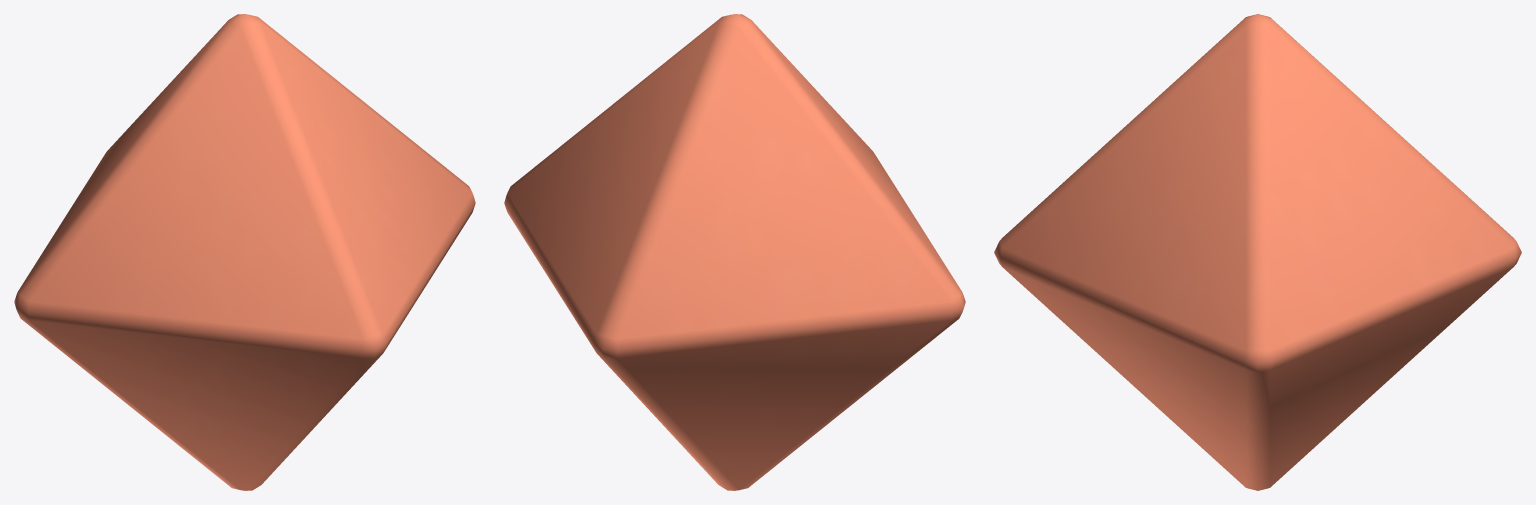
File: DiamondBig_2.fbx
3 renders of one model, left to right at view 1: azimuth 30°, elevation 25°; view 2: azimuth 150°, elevation 25°; view 3: azimuth 270°, elevation 25°, orthographic.
Visible parts, largest first — view 1: Sphere.003; view 2: Sphere.003; view 3: Sphere.003.
Boxes of the visible parts, <box> form: Sphere.003: <box>14,14,475,490</box>; Sphere.003: <box>504,14,965,490</box>; Sphere.003: <box>994,14,1521,490</box>.
Size of the model in its own units: 380 by 378 by 380.
